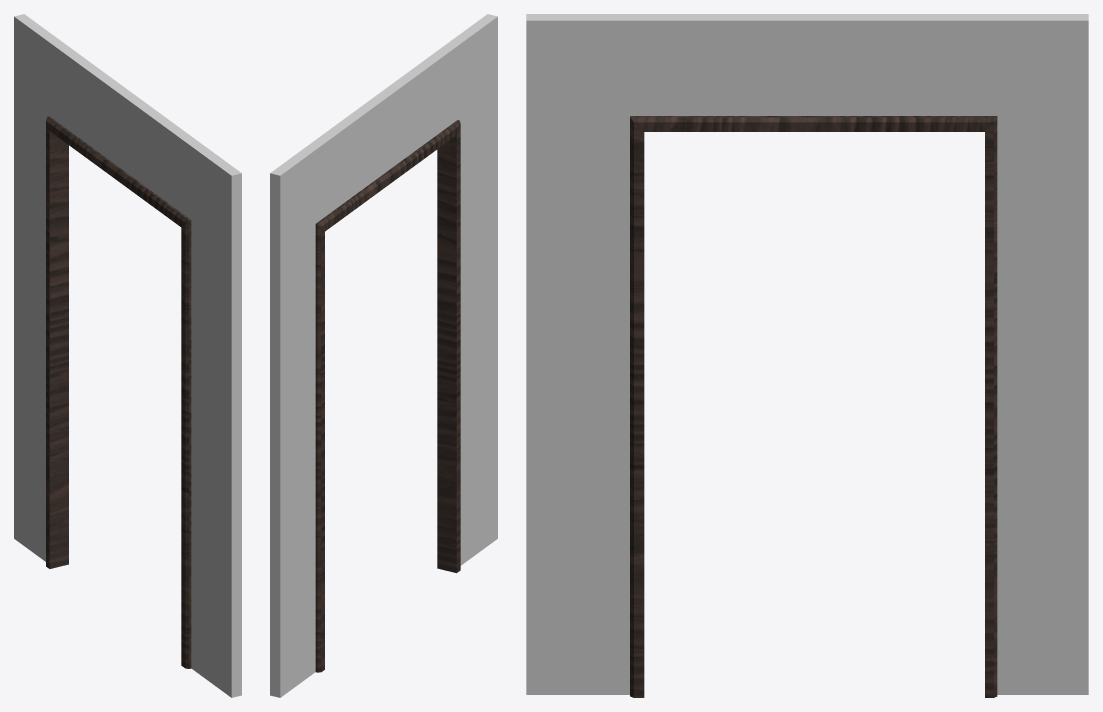
File: DoorFrame.fbx
3 renders of one model, left to right at view 1: azimuth 30°, elevation 25°; view 2: azimuth 150°, elevation 25°; view 3: azimuth 270°, elevation 25°, orthographic. The views are drawn at different scales.
Visible parts, largest first — view 1: Doorframe; view 2: Doorframe; view 3: Doorframe.
Boxes of the visible parts, left/top/right/bottom form: Doorframe: left=14, top=14, right=241, bottom=697; Doorframe: left=270, top=14, right=497, bottom=697; Doorframe: left=526, top=14, right=1088, bottom=697.
Size of the model in its own units: 9.43 by 243 by 184.
